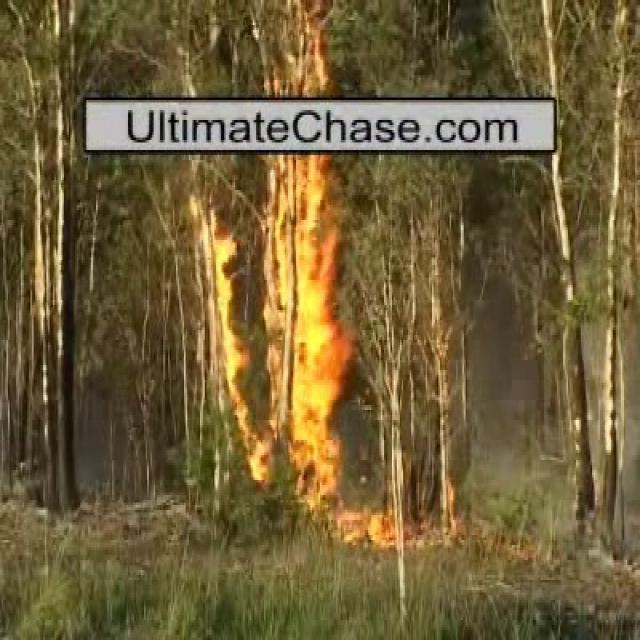Fire: (184, 24, 392, 558)
